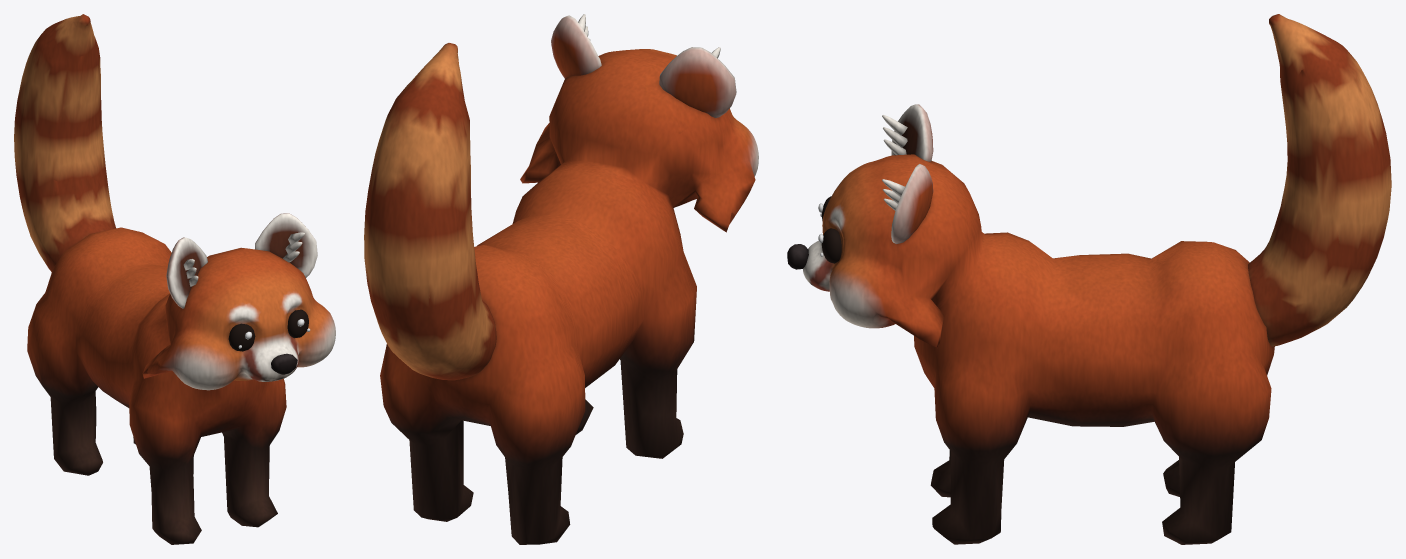
The model's file is redpanda.fbx.
The picture shows the model from 3 angles, left to right: view 1: azimuth 30°, elevation 25°; view 2: azimuth 150°, elevation 25°; view 3: azimuth 270°, elevation 25°; orthographic projection. The views are drawn at different scales.
Visible parts, largest first — view 1: RedPanda_Body, RedPanda_Eyes; view 2: RedPanda_Body; view 3: RedPanda_Body.
Boxes of the visible parts, x1,y1,x2,y2 form: RedPanda_Body: (14, 14, 335, 544); RedPanda_Eyes: (228, 309, 308, 351); RedPanda_Body: (364, 14, 758, 544); RedPanda_Body: (787, 14, 1391, 544).
Bounding box in the file's own units: 1.17 × 2.75 × 2.99.
2 materials, 1 textured.
